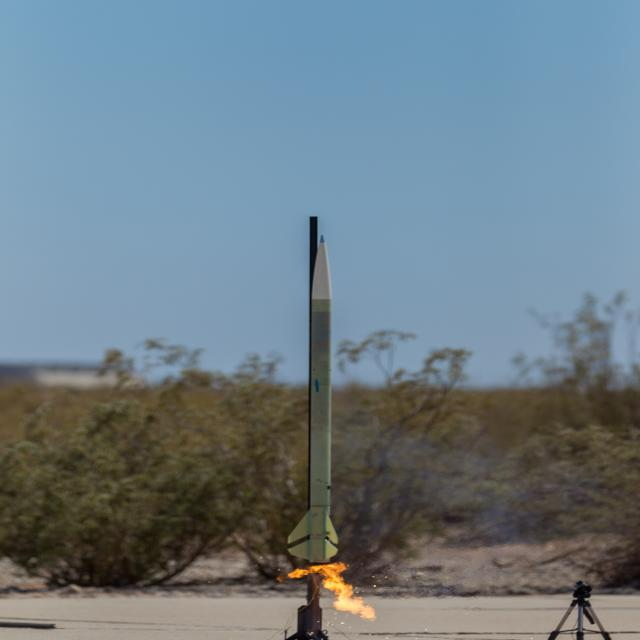Rocket: (289, 234, 340, 566)
